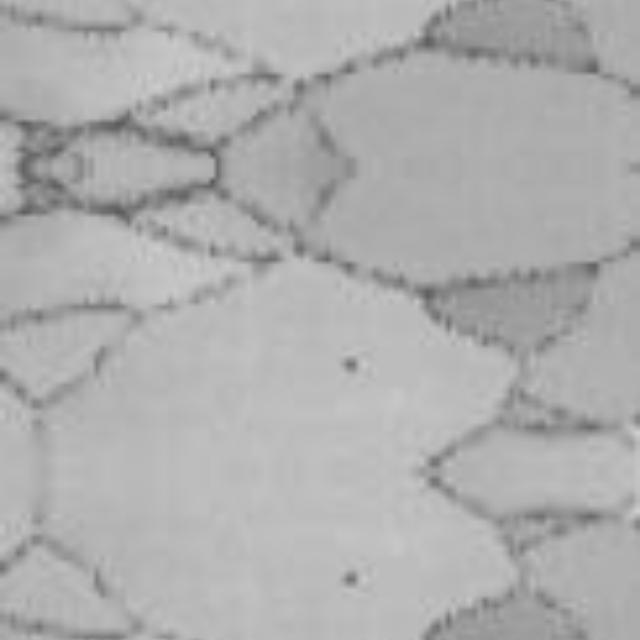good_void: (334, 347, 372, 390), (334, 556, 372, 599)
